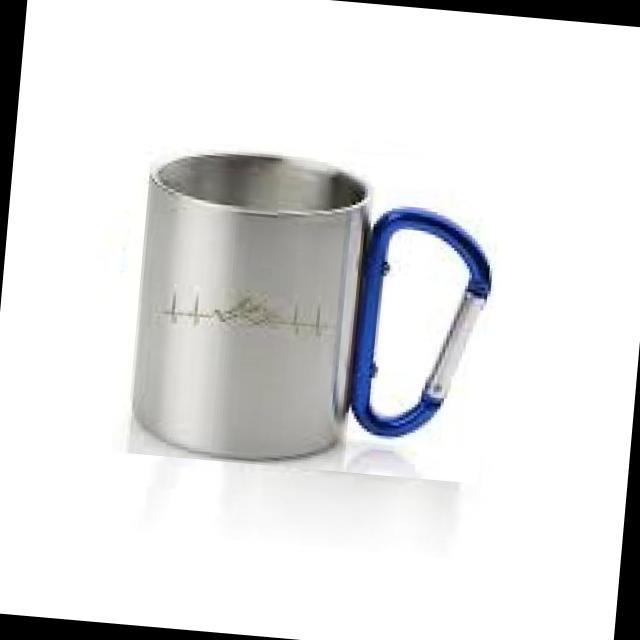Coffee Mug: (126, 144, 498, 486)
